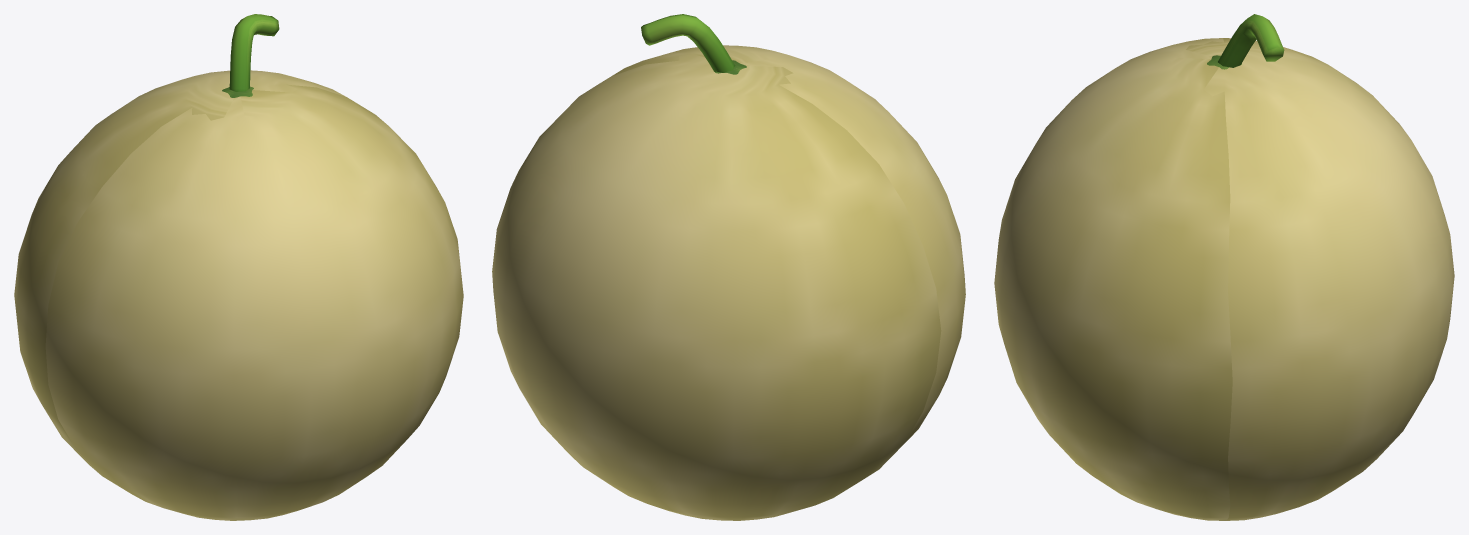
Rendered from NP_Melon_Harvest.fbx.
3 views of the same model, side by side, from view 1: azimuth 30°, elevation 25°; view 2: azimuth 150°, elevation 25°; view 3: azimuth 270°, elevation 25° (orthographic). The views are drawn at different scales.
Visible parts, largest first — view 1: NP_Melon_Harvest; view 2: NP_Melon_Harvest; view 3: NP_Melon_Harvest.
Boxes of the visible parts, left/top/right/bottom form: NP_Melon_Harvest: left=14, top=14, right=463, bottom=520; NP_Melon_Harvest: left=492, top=14, right=965, bottom=520; NP_Melon_Harvest: left=994, top=14, right=1454, bottom=520.
Size of the model in its own units: 39 by 44.05 by 37.
